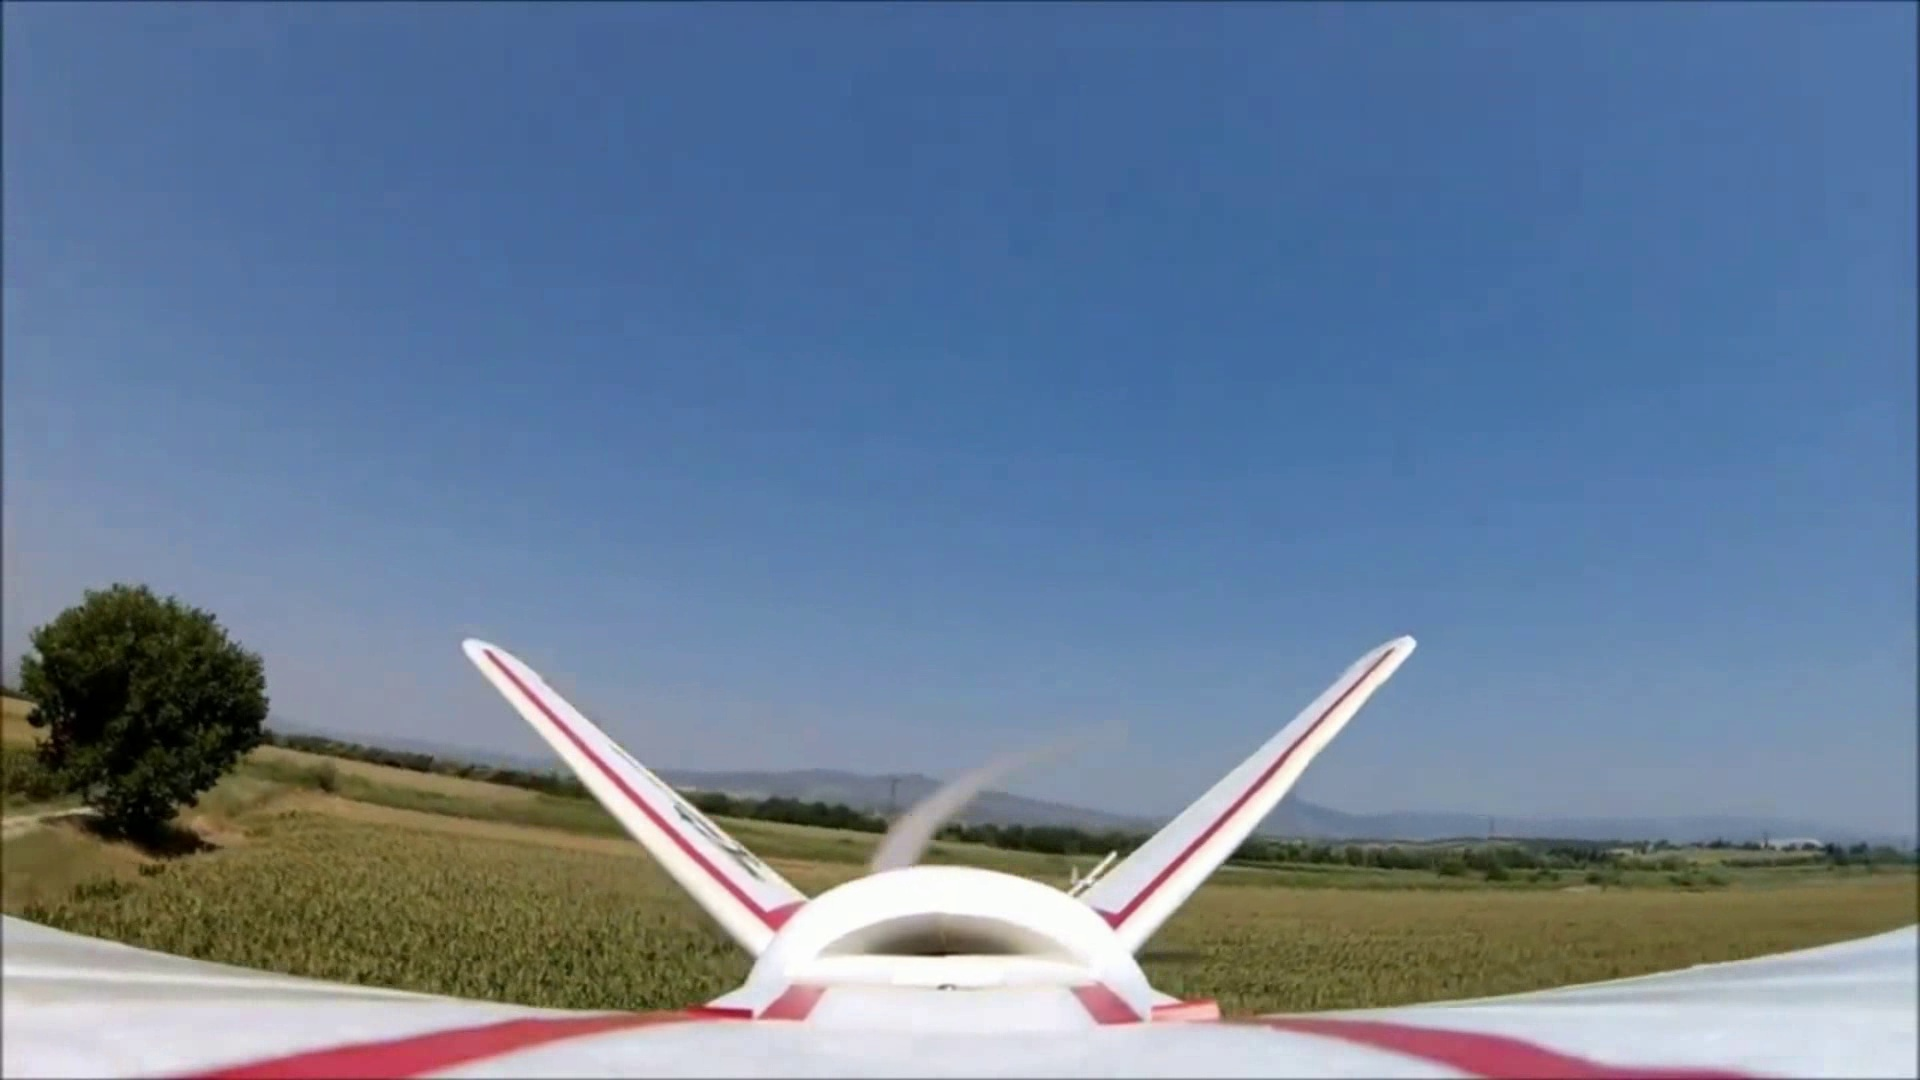airplane: (11, 636, 1751, 1067), (372, 632, 1414, 1033)
